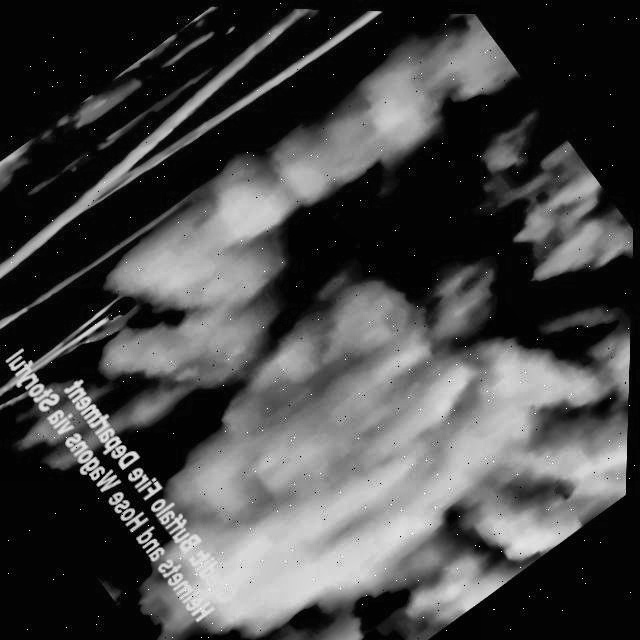Smoke: (29, 1, 640, 640)
